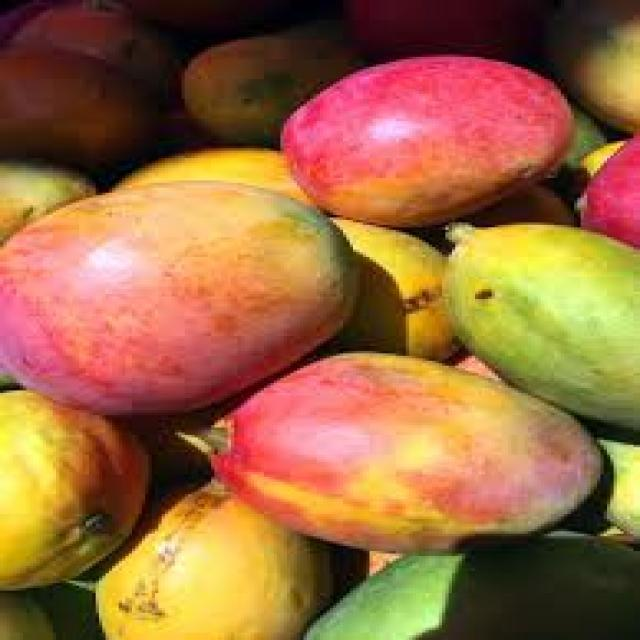Mango: (0, 180, 358, 429), (198, 348, 607, 553), (279, 54, 578, 224), (426, 217, 640, 428)
